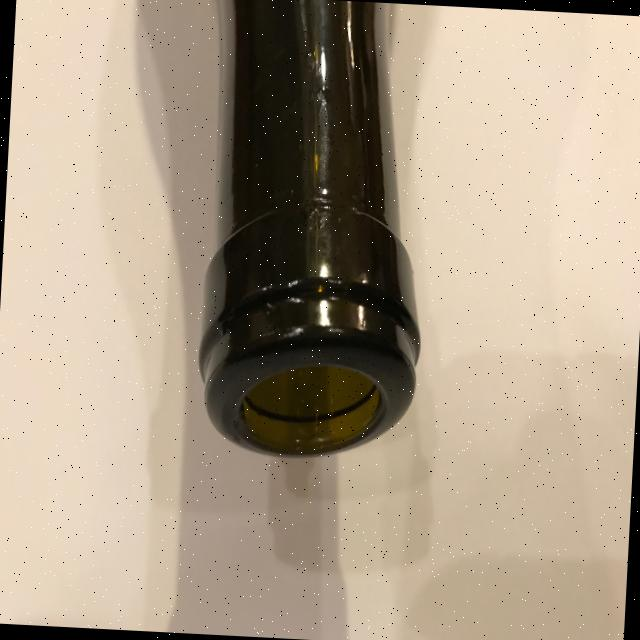glass: (191, 0, 439, 464)
